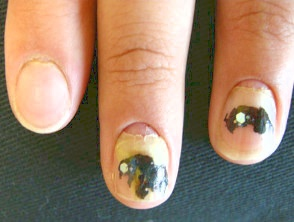SJS-TEN: (205, 76, 288, 168), (112, 114, 178, 202), (17, 48, 69, 116)
